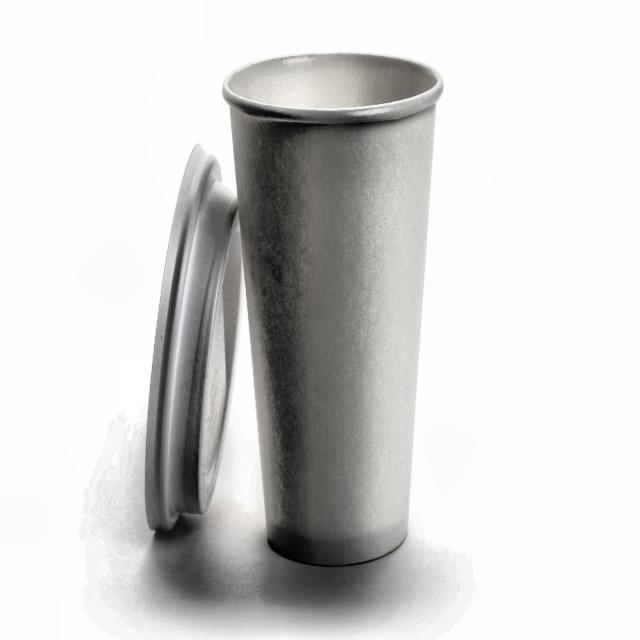Cup: (217, 39, 443, 574)
